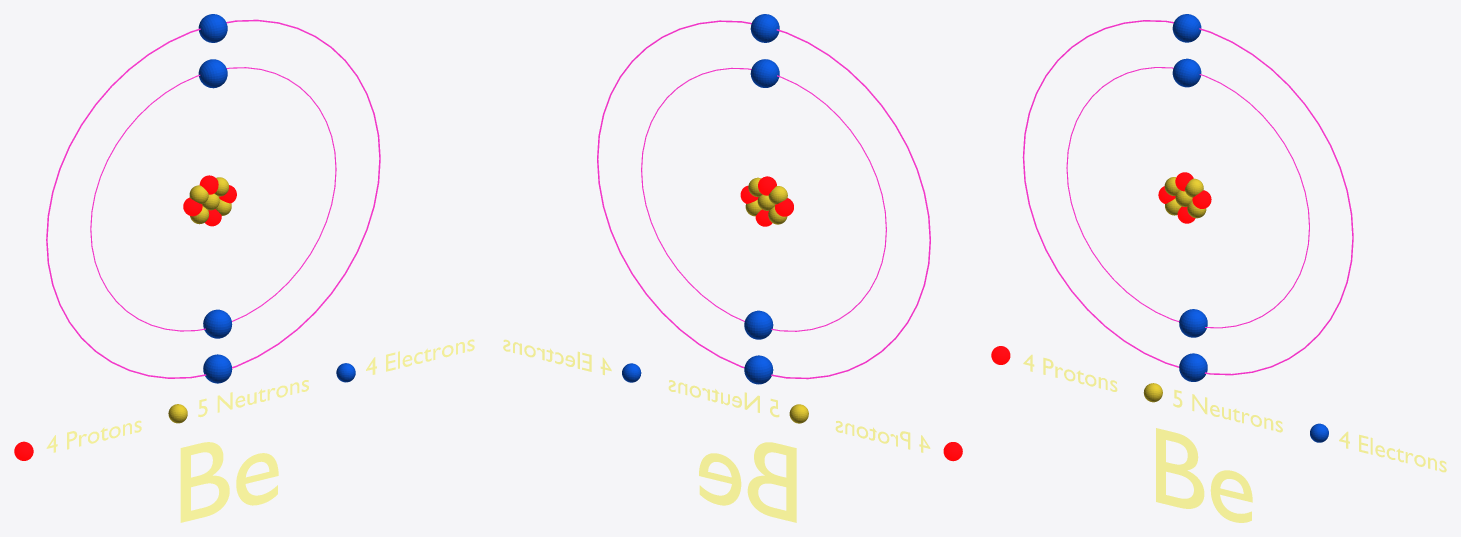
The model's file is beryllium.glb.
3 renders of one model, left to right at view 1: azimuth 30°, elevation 25°; view 2: azimuth 150°, elevation 25°; view 3: azimuth 330°, elevation 25°, orthographic.
Parts seen in each view (by area): view 1: Text, BézierCircle.001, BézierCircle, Text.002, Text.003, Sphere.009, Sphere.001, Sphere.015, Sphere.002, Text.001; view 2: Text, BézierCircle.001, BézierCircle, Text.003, Text.002, Sphere.001, Sphere.009, Sphere.002, Sphere.015, Text.001; view 3: Text, BézierCircle.001, BézierCircle, Text.003, Text.002, Sphere.002, Sphere.001, Sphere.015, Sphere.009, Text.001.
Boxes of the visible parts, x1,y1,x2,y2 form: Text: [180, 442, 278, 522]; BézierCircle.001: [46, 19, 380, 378]; BézierCircle: [90, 67, 336, 331]; Text.002: [198, 380, 308, 417]; Text.003: [366, 339, 474, 374]; Sphere.009: [203, 354, 232, 383]; Sphere.001: [203, 309, 232, 338]; Sphere.015: [198, 14, 227, 42]; Sphere.002: [198, 59, 227, 88]; Text.001: [46, 420, 141, 452]; Text: [699, 442, 796, 522]; BézierCircle.001: [597, 20, 930, 379]; BézierCircle: [641, 67, 886, 331]; Text.003: [503, 339, 611, 375]; Text.002: [668, 380, 779, 417]; Sphere.001: [744, 310, 773, 339]; Sphere.009: [744, 355, 773, 384]; Sphere.002: [750, 59, 779, 87]; Sphere.015: [750, 14, 779, 42]; Text.001: [835, 421, 930, 452]; Text: [1156, 428, 1252, 522]; BézierCircle.001: [1022, 20, 1353, 375]; BézierCircle: [1066, 67, 1309, 328]; Text.003: [1339, 431, 1446, 472]; Text.002: [1173, 389, 1282, 432]; Sphere.002: [1172, 58, 1201, 87]; Sphere.001: [1179, 309, 1207, 337]; Sphere.015: [1172, 14, 1201, 42]; Sphere.009: [1179, 353, 1207, 381]; Text.001: [1023, 354, 1117, 391].
Bounding box in the file's own units: 4.37 × 4.56 × 0.2564.
